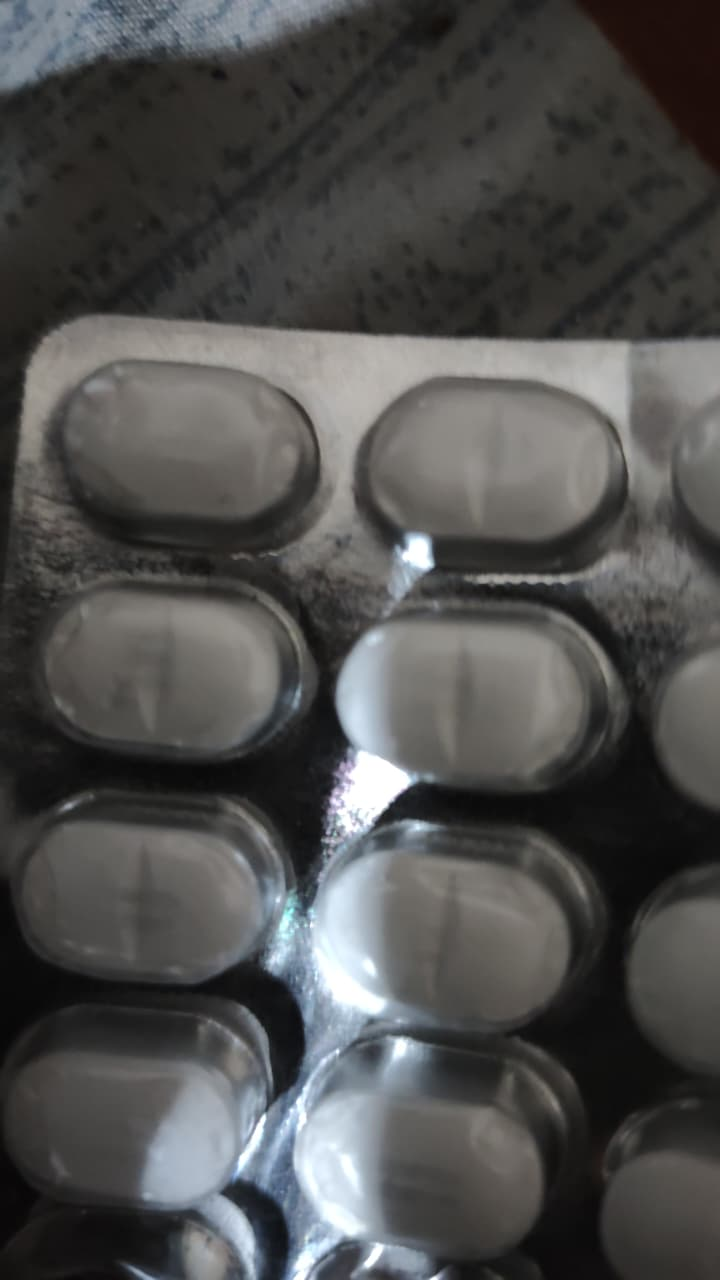MedicineStrip: (0, 330, 720, 1280)
